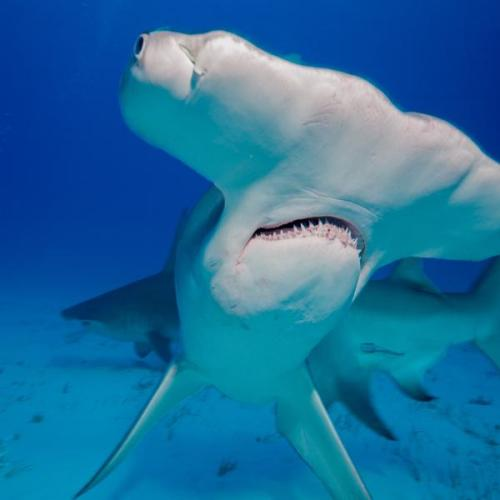shark-endangered: (71, 28, 500, 500)
